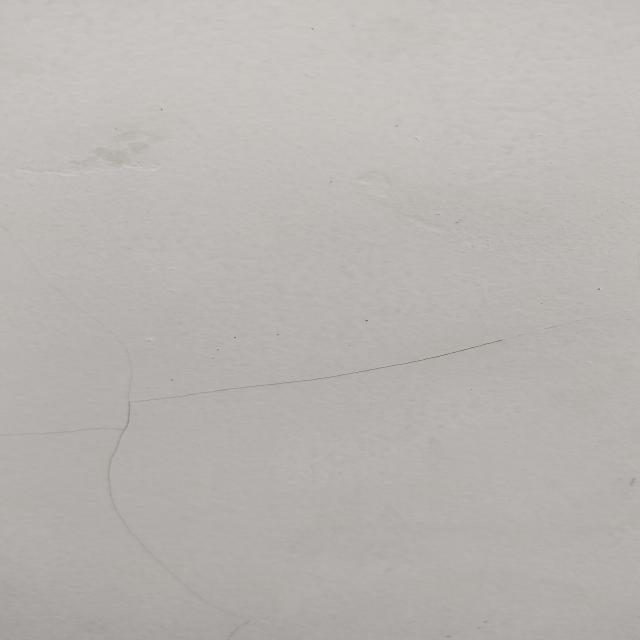Crack: (4, 335, 533, 622)
